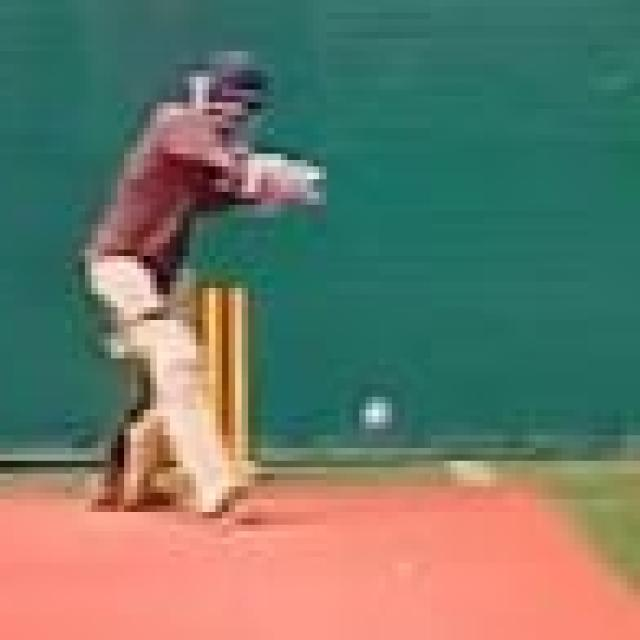ball: (347, 386, 408, 442)
